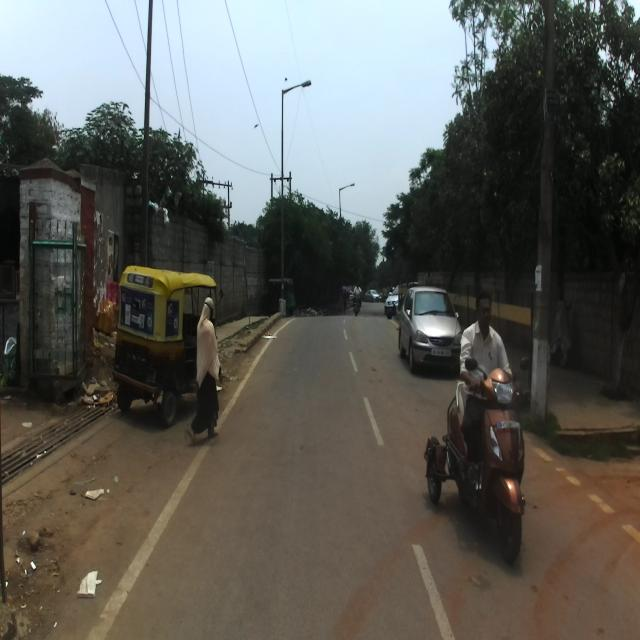auto ahead at: (116, 262, 187, 426)
car ahead at: (402, 283, 460, 377)
electric pole ahead at: (529, 2, 562, 430)
motorcycle ahead at: (447, 348, 531, 555)
person ahead at: (192, 293, 226, 440)
